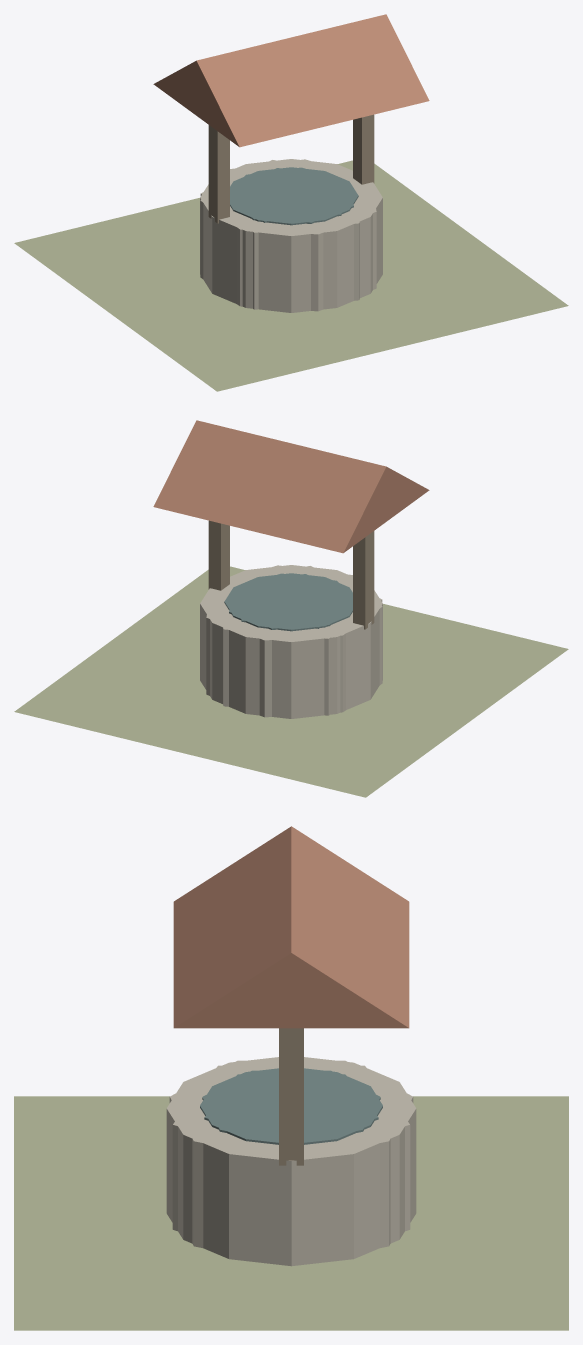
3 views of the same model, one above another, from view 1: azimuth 30°, elevation 25°; view 2: azimuth 150°, elevation 25°; view 3: azimuth 270°, elevation 25° (orthographic). The views are drawn at different scales.
Parts seen in each view (by area): view 1: Near, Mid, Far; view 2: Near, Mid, Far; view 3: Near, Mid, Far.
Part boxes in pixels (x1,y1,x2,y2): Near: (14, 14, 568, 391); Mid: (200, 159, 376, 311); Far: (200, 160, 367, 309); Near: (14, 420, 568, 797); Mid: (206, 565, 382, 717); Far: (216, 566, 382, 715); Near: (14, 826, 568, 1330); Mid: (169, 1060, 413, 1247); Far: (172, 1065, 410, 1231).
Size of the model in its own units: 2 by 1.29 by 2.
